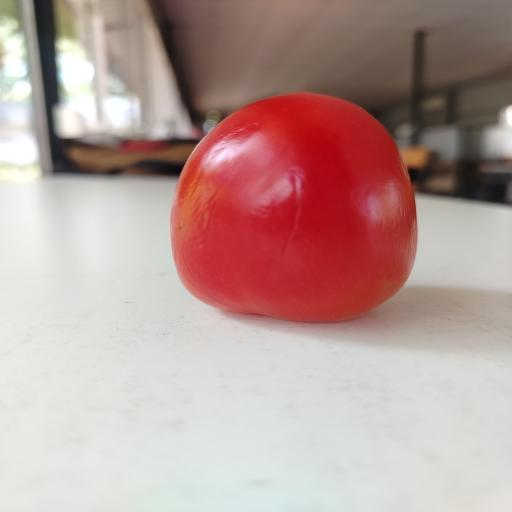overipe: (171, 93, 417, 321)
